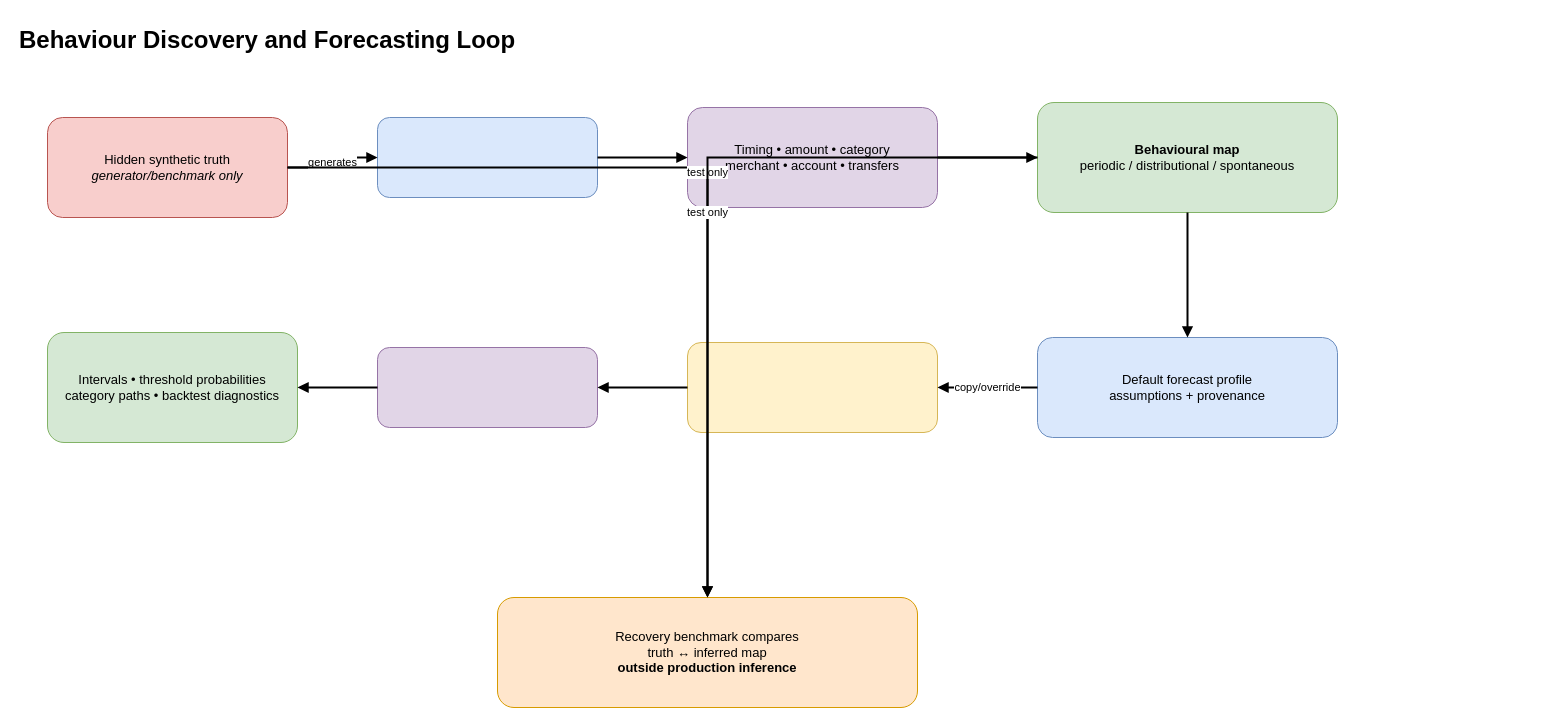
This 1554x725 diagram has some shape labels left out. The box of each missing label's shape, as (x1, y1, x2, y2) in pixels:
Monte Carlo future paths: (376, 346, 598, 428)
Observable transactions: (376, 116, 598, 198)
User scenario overrides + events: (686, 342, 938, 432)
